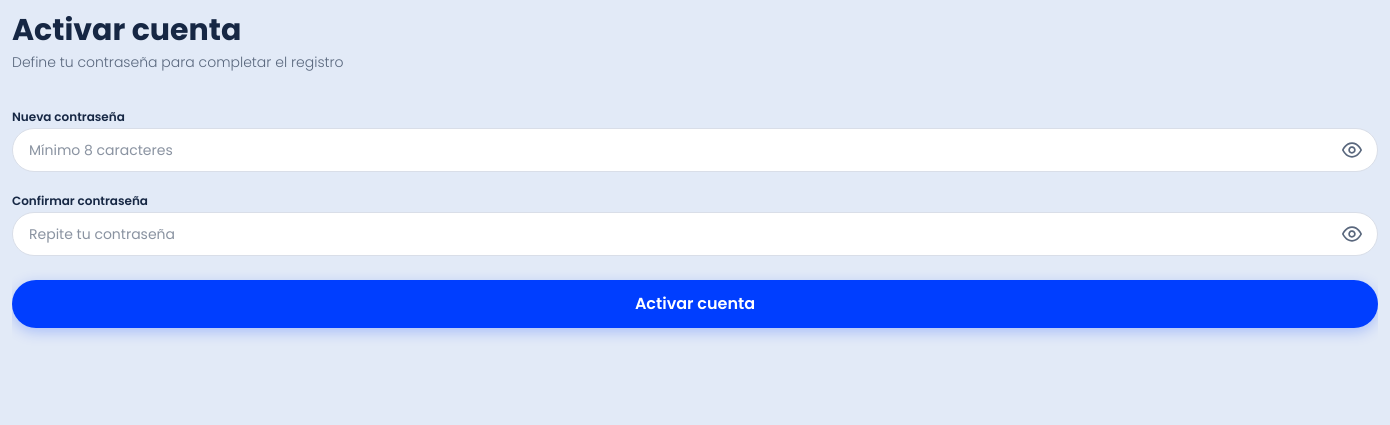
ActivateAccountForm › muestra error cuando el token expiró (HTTP 410)
The image size is (1390, 425).
Type "SecurePass1!" into the password field labelled "Nueva contraseña".
click(695, 150); type("SecurePass1!")  # box [12,128,1378,172]
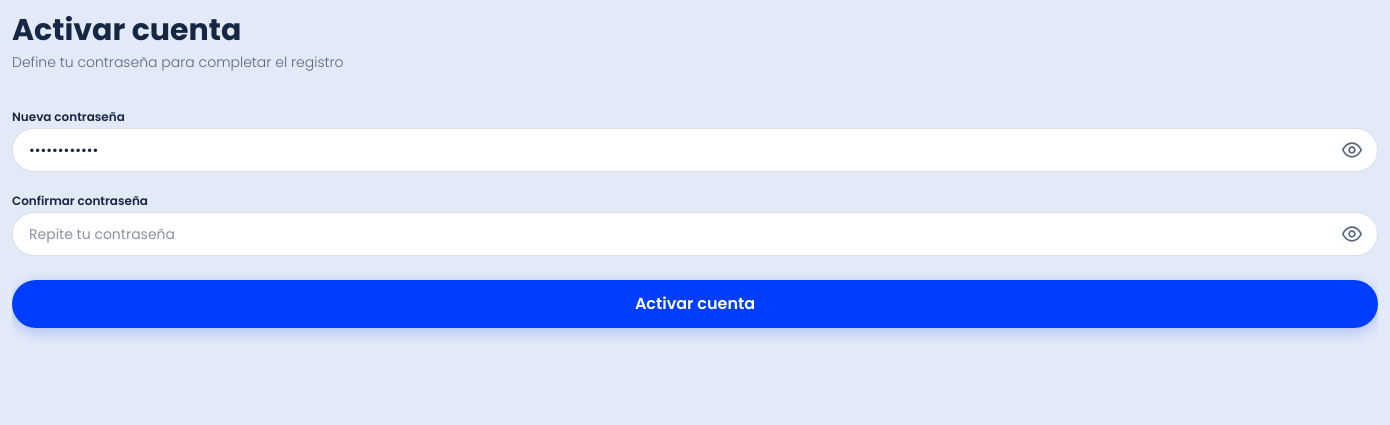
Type "SecurePass1!" into the password field labelled "Confirmar contraseña".
click(695, 234); type("SecurePass1!")  # box [12,212,1378,256]
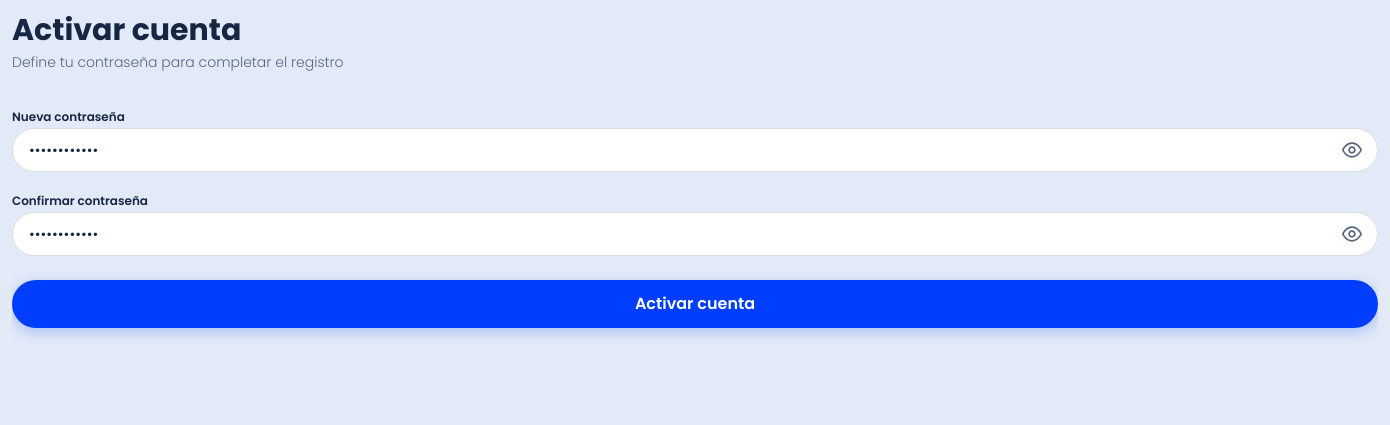
Click the button "Activar cuenta".
click(695, 304)  # box [12,280,1378,328]
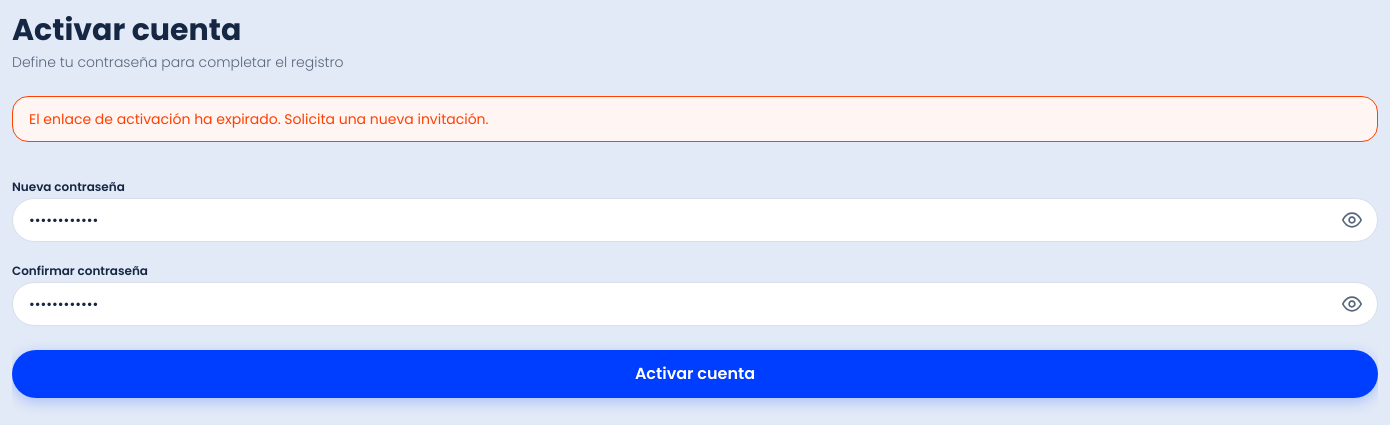
Expected: the message shows "expirado", [29,109,488,129]
